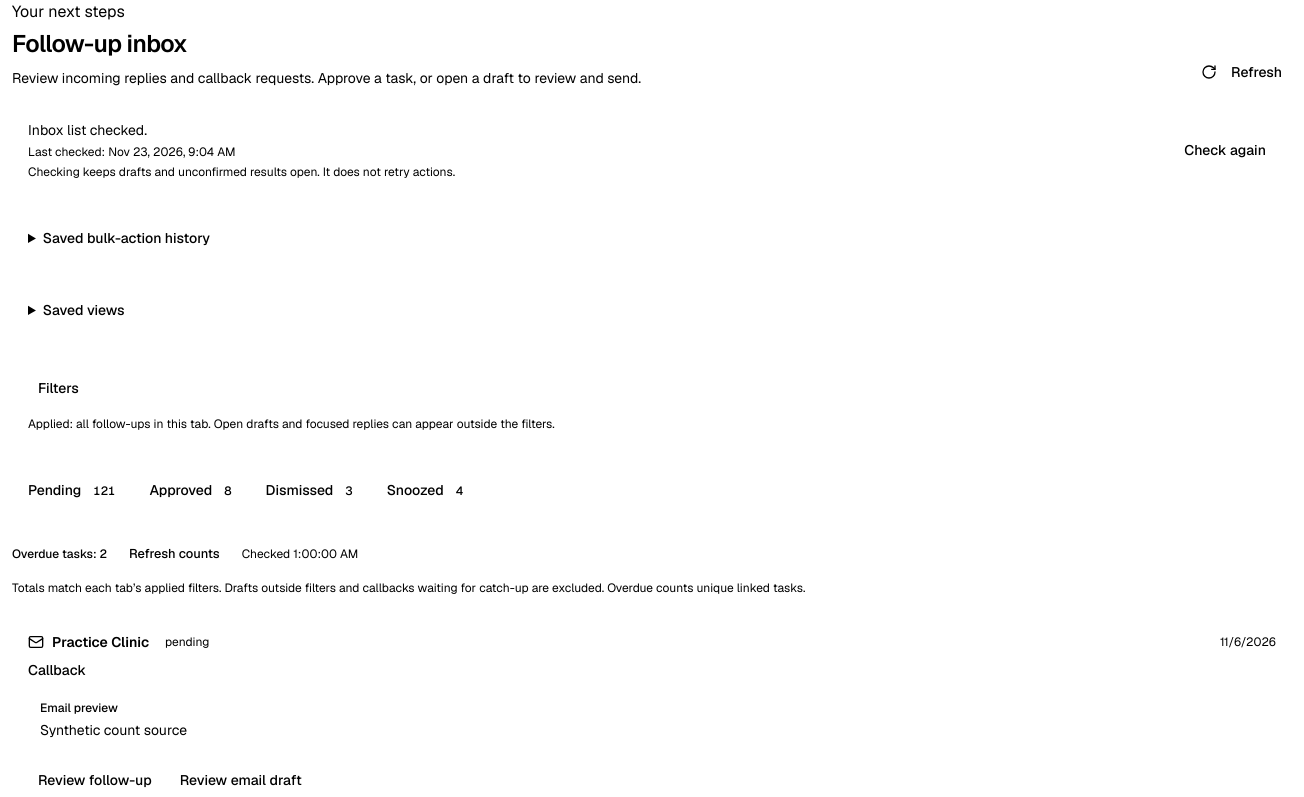
Test: blocks count retry after a replacement-list failure and resumes when the list retry succeeds
Expected: the button "Overdue tasks: 2" is shown, [12,532,107,576]
Click the button "Filters" at [58, 388], box [28,372,89,404]
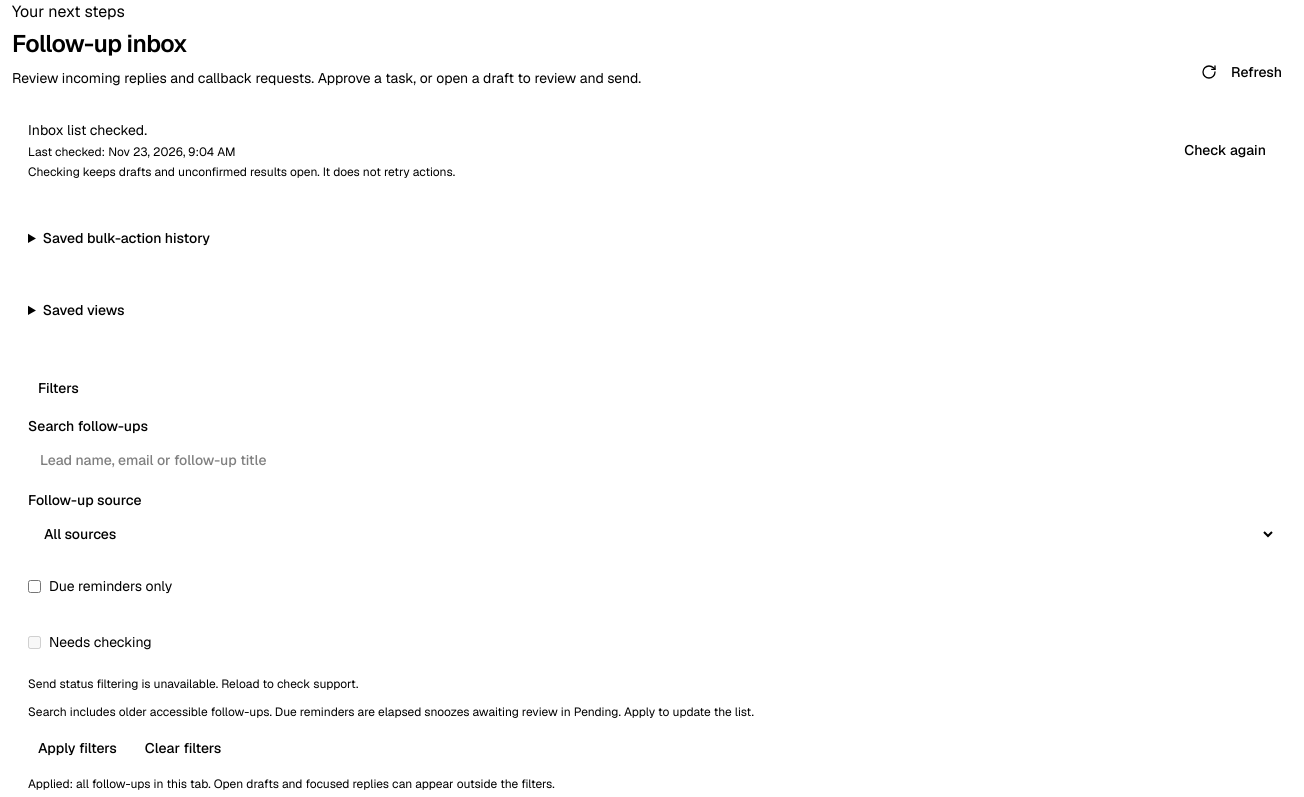
Type "Practice" into the search field at [652, 460], box [28,442,1276,478]
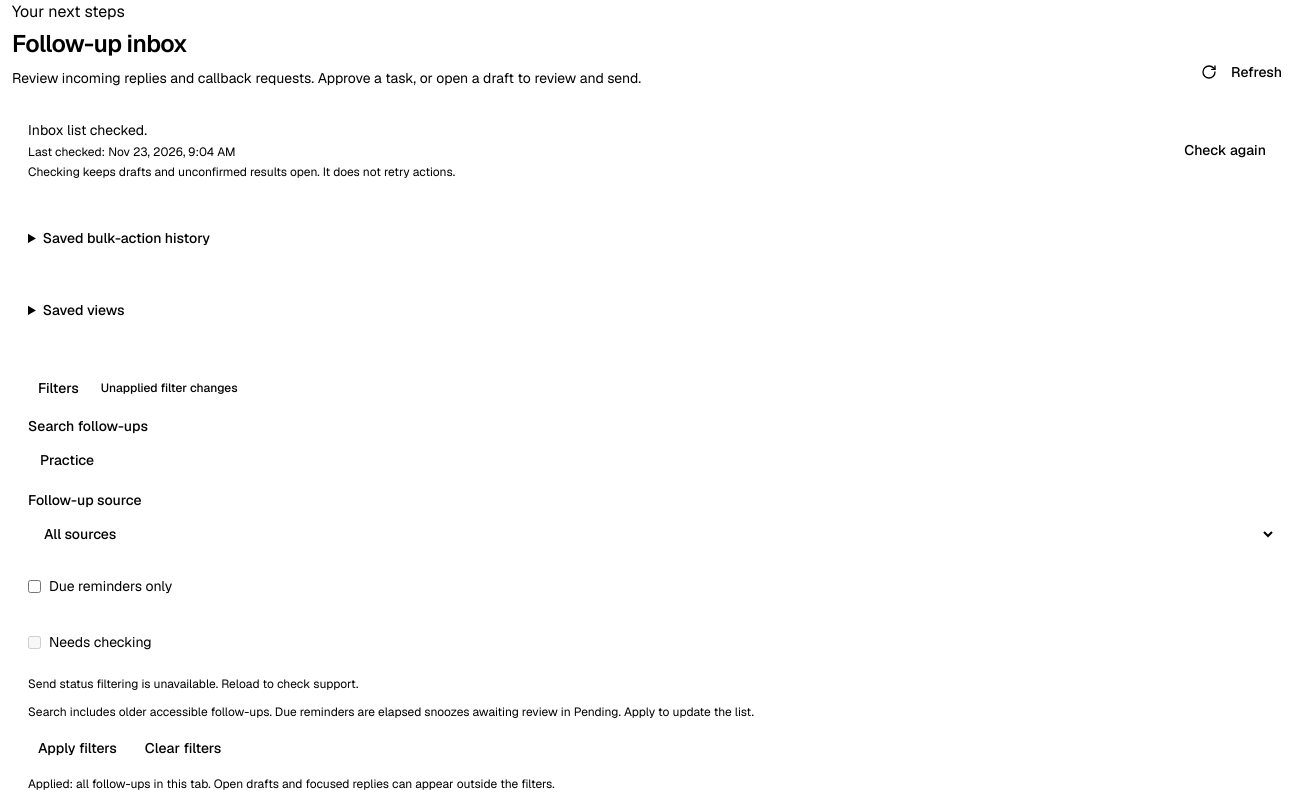
Click the button "Apply filters" at [77, 748], box [28,732,127,764]
(page scrolled)
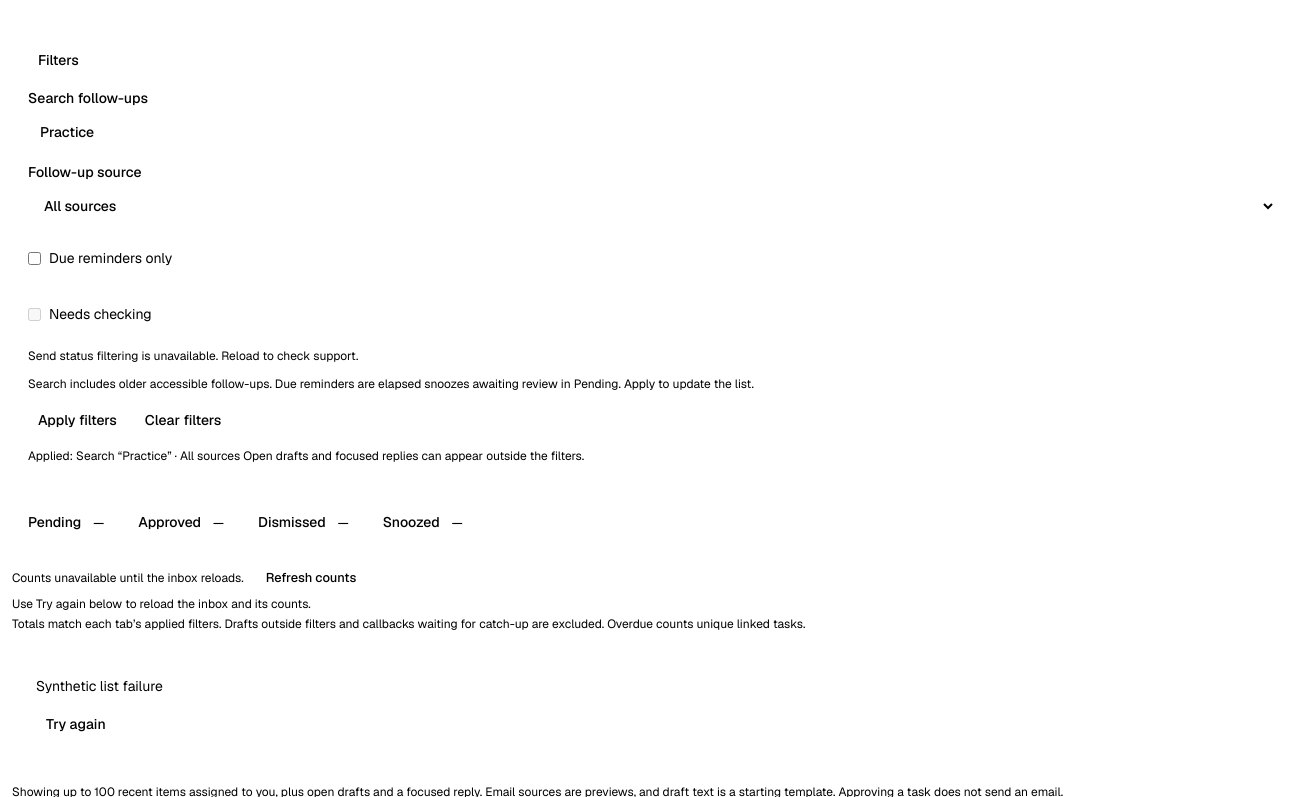
Now the text "Synthetic list failure" is shown, box [36,677,163,695]
Now the text "Counts unavailable until the inbox reloads." is shown, box [12,570,244,586]
Now the button "Refresh counts" is disabled, box [256,564,366,592]
Click the button "Try again" at [76, 724], box [36,708,116,740]
(page scrolled)
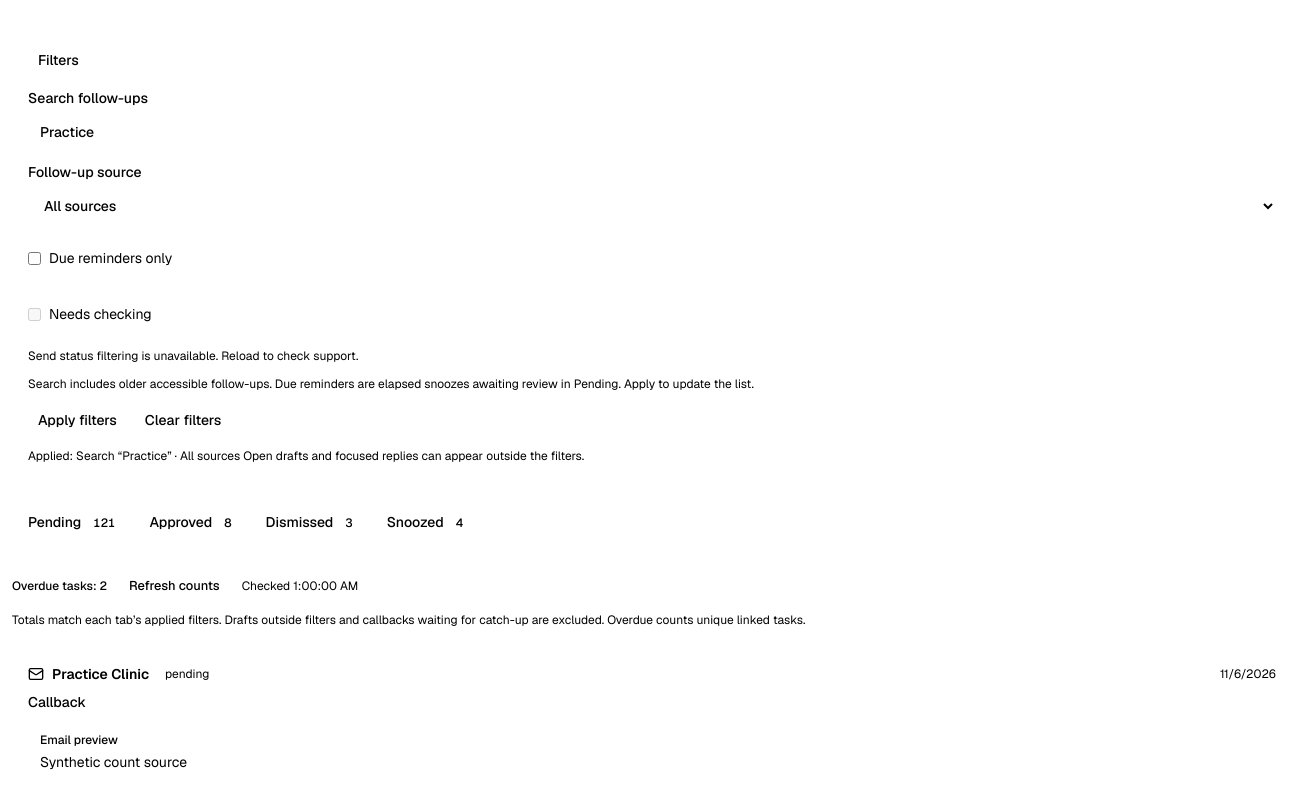
Now the button "Refresh counts" is enabled, box [119,572,230,600]
